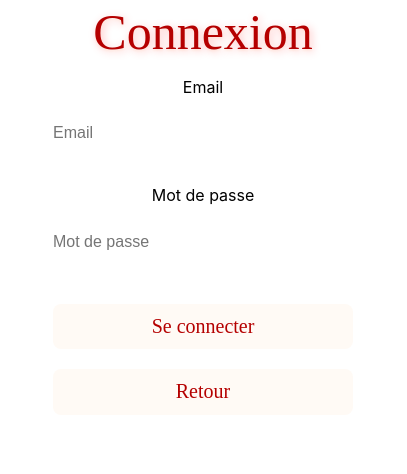
Scenario: LoginForm component › effacement de l'erreur lors d'une nouvelle soumission
Type "wrong@example.com" into the field with placeholder "Email" at (203, 133), box 34,97 -> 372,169
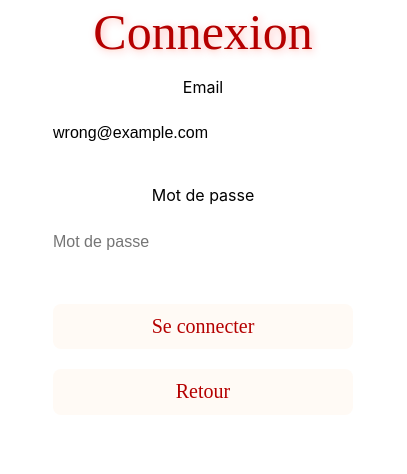
Type "wrongpassword" into the password field with placeholder "Mot de passe" at (203, 242), box 34,205 -> 372,278
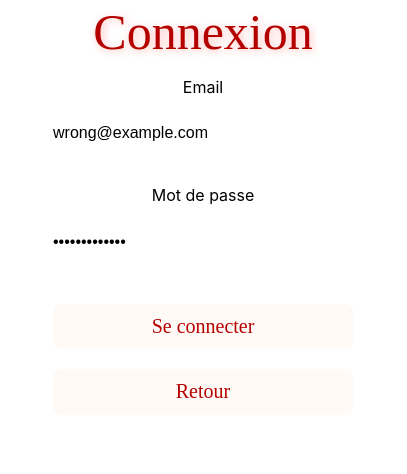
Click the button "Se connecter" at (203, 326), box 53,304 -> 353,349
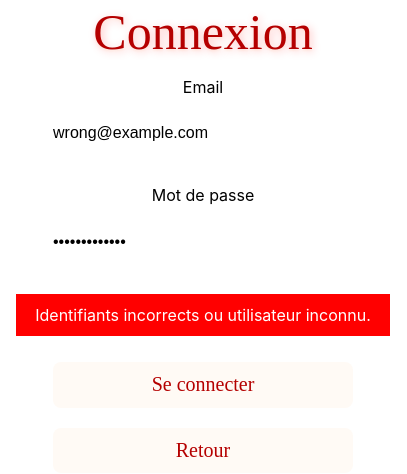
Check: the text "Identifiants incorrects ou utilisateur inconnu." is shown, box 16,294 -> 390,336
Replace the text in the field with placeholder "Email" with "correct@example.com" at (203, 133), box 34,97 -> 372,169
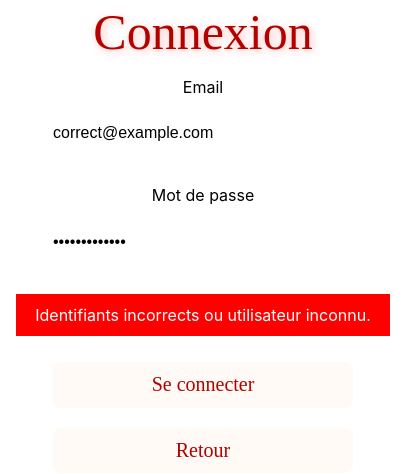
Click the button "Se connecter" at (203, 385), box 53,362 -> 353,408
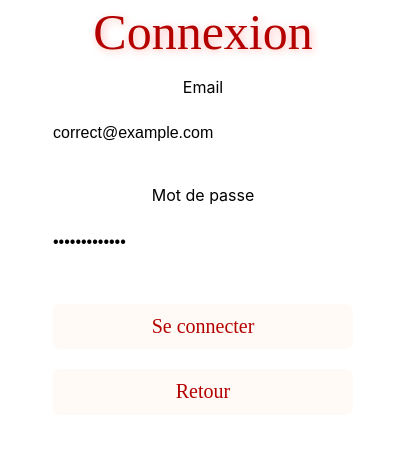
Check: the text "Identifiants incorrects" is gone
